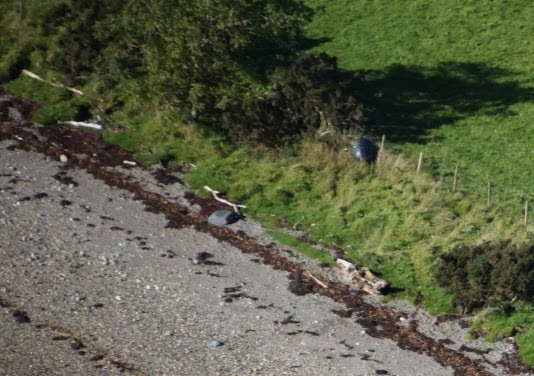tube: (19, 64, 84, 93), (53, 114, 108, 134)
white_in_green: (308, 227, 417, 322), (330, 116, 399, 188), (188, 189, 258, 247)
